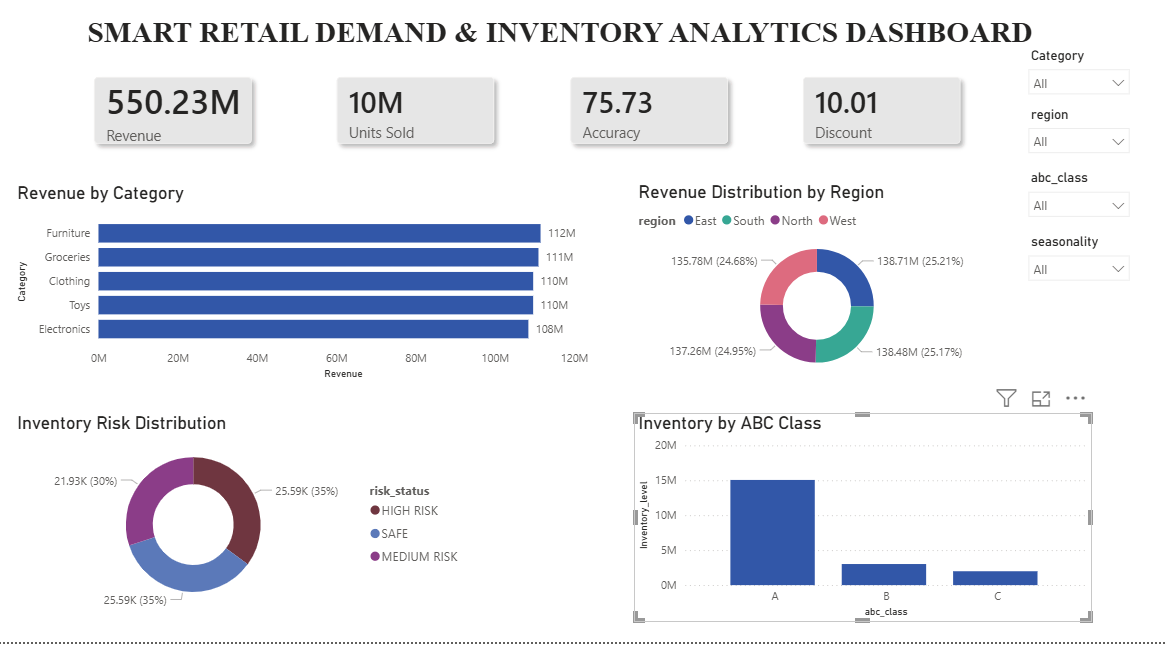

The dashboard page shown, as its layout file describes it:
{"tool":"powerbi","page":{"name":"Executive Overview","canvas":[1280,720],"ordinal":0},"visuals":[{"type":"cardVisual","fields":{"Data":["Sum(dashboard_dataset.revenue)"]},"box":[80.5,73.7,230.7,131],"z":0},{"type":"textbox","box":[355.4,138.6,263.5,157.8],"z":1000},{"type":"textbox","box":[0,30.2,1236.4,54.9],"z":2000},{"type":"cardVisual","fields":{"Data":["Sum(dashboard_dataset.units_sold)"]},"box":[345.3,73.7,230,131],"z":3000},{"type":"cardVisual","fields":{"Data":["Avg(dashboard_dataset.forecast_accuracy)"]},"box":[600.6,73.7,230,131],"z":4000},{"type":"cardVisual","fields":{"Data":["Avg(dashboard_dataset.discount)"]},"box":[854.4,73.7,230,131],"z":5000},{"type":"slicer","fields":{"Values":["dashboard_dataset.category"]},"box":[1119.2,84.6,131,64.2],"z":6000},{"type":"slicer","fields":{"Values":["dashboard_dataset.region"]},"box":[1119.2,146,131,71],"z":7000},{"type":"slicer","fields":{"Values":["dashboard_dataset.seasonality"]},"box":[1119.2,277.1,131,71],"z":8000},{"type":"slicer","fields":{"Values":["dashboard_dataset.abc_class"]},"box":[1119.2,217,131,58.7],"z":9000},{"type":"clusteredBarChart","fields":{"Category":["dashboard_dataset.category"],"Y":["Sum(dashboard_dataset.revenue)"]},"box":[20.5,218.4,600,219.7],"z":10000},{"type":"donutChart","title":"Revenue Distribution by Region","fields":{"Category":["dashboard_dataset.region"],"Y":["Sum(dashboard_dataset.revenue)"]},"box":[618.3,217,399.9,219.7],"z":11000},{"type":"clusteredColumnChart","title":"Inventory by ABC Class","fields":{"Category":["dashboard_dataset.abc_class"],"Y":["Sum(dashboard_dataset.inventory_level)"]},"box":[618.3,466.8,399.9,227.9],"z":12000},{"type":"donutChart","title":"Inventory Risk Distribution","fields":{"Category":["dashboard_dataset.risk_status"],"Y":["CountNonNull(dashboard_dataset.product_id)"]},"box":[20.5,466.8,499.6,222.5],"z":13000},{"type":"textbox","box":[1000.5,466.8,268.9,222.5],"z":13001}]}

Visuals, with their boxes in screenshot pixels (x1, y1, x2, y2), scaled from the page's 1280x720 canvas onto the 1165x647 screenshot:
cardVisual - Sum(dashboard_dataset.revenue): {"left": 73, "top": 66, "right": 283, "bottom": 184}
textbox: {"left": 323, "top": 125, "right": 563, "bottom": 266}
textbox: {"left": 0, "top": 27, "right": 1125, "bottom": 76}
cardVisual - Sum(dashboard_dataset.units_sold): {"left": 314, "top": 66, "right": 524, "bottom": 184}
cardVisual - Avg(dashboard_dataset.forecast_accuracy): {"left": 547, "top": 66, "right": 756, "bottom": 184}
cardVisual - Avg(dashboard_dataset.discount): {"left": 778, "top": 66, "right": 987, "bottom": 184}
slicer - dashboard_dataset.category: {"left": 1019, "top": 76, "right": 1138, "bottom": 134}
slicer - dashboard_dataset.region: {"left": 1019, "top": 131, "right": 1138, "bottom": 195}
slicer - dashboard_dataset.seasonality: {"left": 1019, "top": 249, "right": 1138, "bottom": 313}
slicer - dashboard_dataset.abc_class: {"left": 1019, "top": 195, "right": 1138, "bottom": 248}
clusteredBarChart - dashboard_dataset.category x Sum(dashboard_dataset.revenue): {"left": 19, "top": 196, "right": 565, "bottom": 394}
"Revenue Distribution by Region" donutChart: {"left": 563, "top": 195, "right": 927, "bottom": 392}
"Inventory by ABC Class" clusteredColumnChart: {"left": 563, "top": 419, "right": 927, "bottom": 624}
"Inventory Risk Distribution" donutChart: {"left": 19, "top": 419, "right": 473, "bottom": 619}
textbox: {"left": 911, "top": 419, "right": 1155, "bottom": 619}
